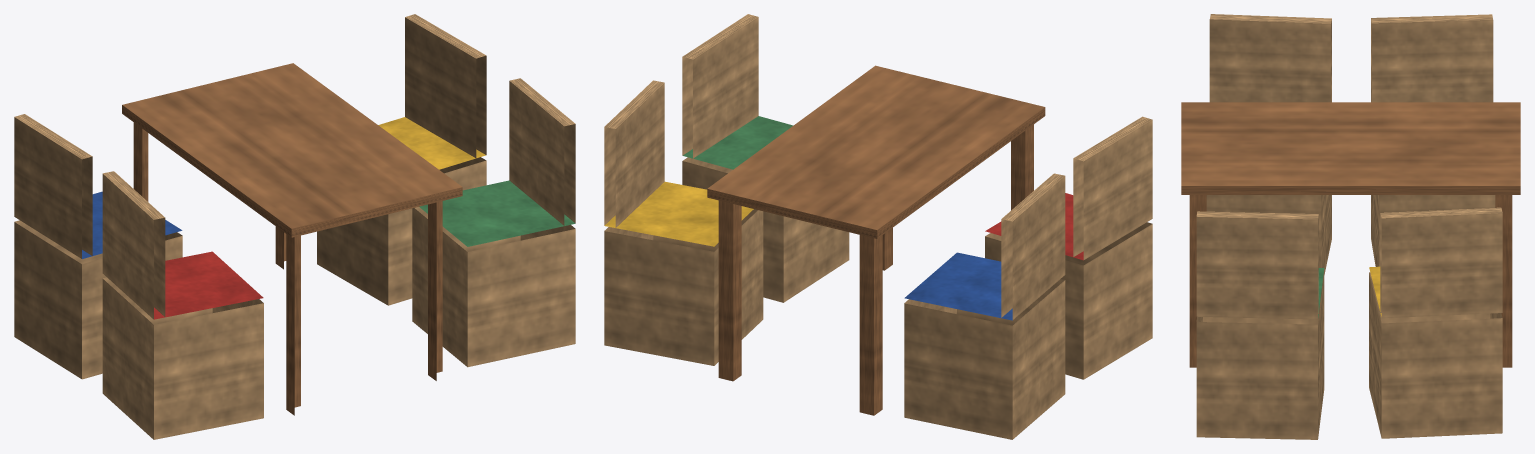
Rendered from SM_Molo_SetLegno_LOD2.fbx.
3 renders of one model, left to right at view 1: azimuth 30°, elevation 25°; view 2: azimuth 150°, elevation 25°; view 3: azimuth 270°, elevation 25°, orthographic.
Parts seen in each view (by area): view 1: SM_Molo_SetLegno_LOD2; view 2: SM_Molo_SetLegno_LOD2; view 3: SM_Molo_SetLegno_LOD2.
Boxes of the visible parts, x1,y1,x2,y2 form: SM_Molo_SetLegno_LOD2: (14, 14, 575, 439); SM_Molo_SetLegno_LOD2: (604, 14, 1152, 439); SM_Molo_SetLegno_LOD2: (1181, 14, 1520, 439).
Size of the model in its own units: 172 by 120 by 86.
1 material, 1 textured.
